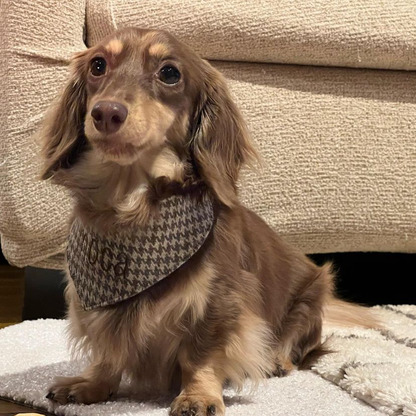dachshund: (36, 27, 330, 379)
